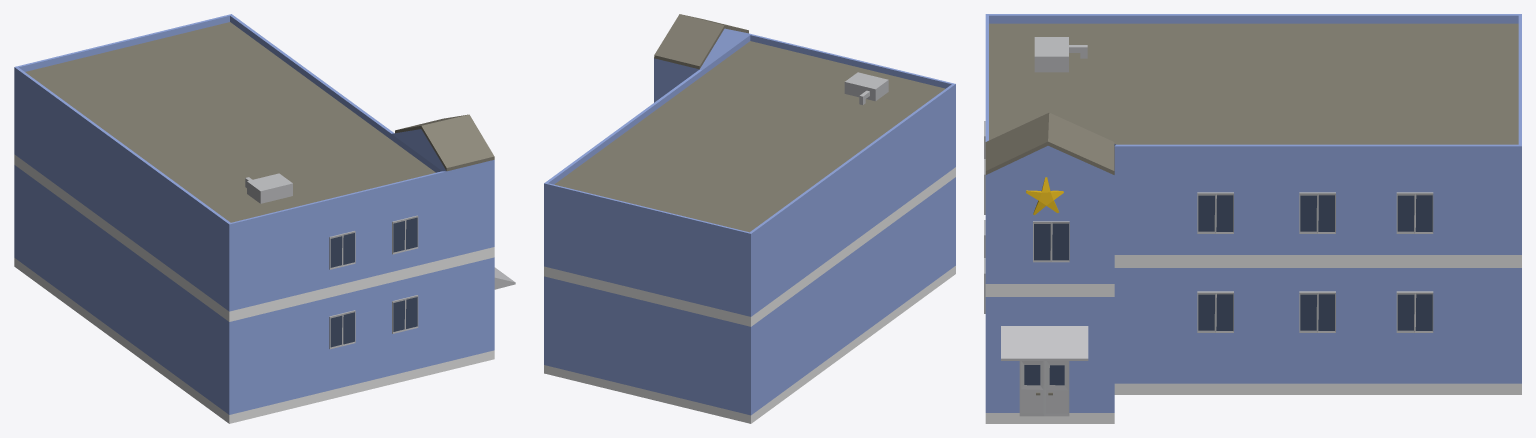
Rendered from PoliceStation.glb.
3 views of the same model, side by side, from view 1: azimuth 30°, elevation 25°; view 2: azimuth 150°, elevation 25°; view 3: azimuth 270°, elevation 25° (orthographic). The views are drawn at different scales.
Visible parts, largest first — view 1: Cube.020; view 2: Cube.020; view 3: Cube.020.
Boxes of the visible parts, x1,y1,x2,y2 form: Cube.020: (14, 14, 515, 423); Cube.020: (544, 14, 955, 423); Cube.020: (984, 14, 1521, 423).
Bounding box in the file's own units: 2.31 × 1.71 × 2.95.
